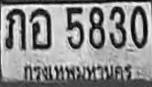0: (130, 5, 147, 48)
3: (108, 5, 126, 48)
5: (65, 6, 83, 48)
8: (88, 6, 104, 48)
A32: (4, 8, 26, 49)
A43: (29, 8, 51, 48)
BKK: (20, 61, 136, 86)
